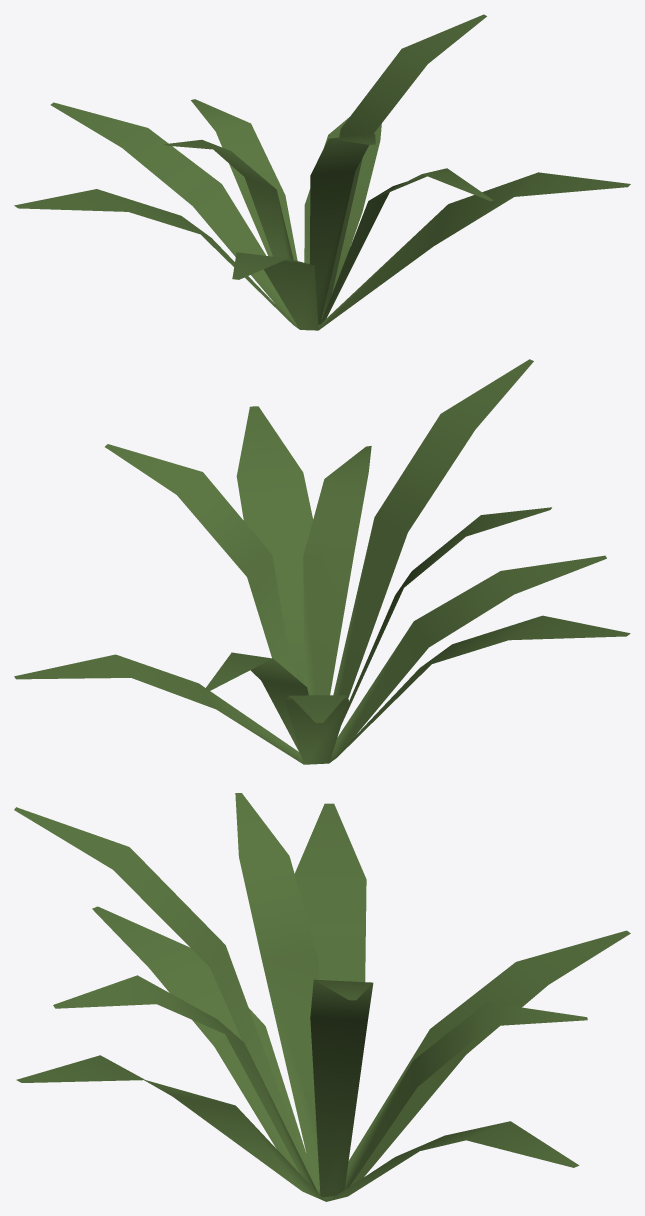
Rendered from SM_Grass_03.fbx.
3 renders of one model, top to bottom at view 1: azimuth 30°, elevation 25°; view 2: azimuth 150°, elevation 25°; view 3: azimuth 270°, elevation 25°, orthographic. The views are drawn at different scales.
Visible parts, largest first — view 1: GrassBig; view 2: GrassBig; view 3: GrassBig.
Boxes of the visible parts, x1=… form: GrassBig: x1=14, y1=14, x2=630, y2=330; GrassBig: x1=14, y1=359, x2=630, y2=764; GrassBig: x1=14, y1=793, x2=630, y2=1201.
Size of the model in its own units: 102 by 59.18 by 95.57.
